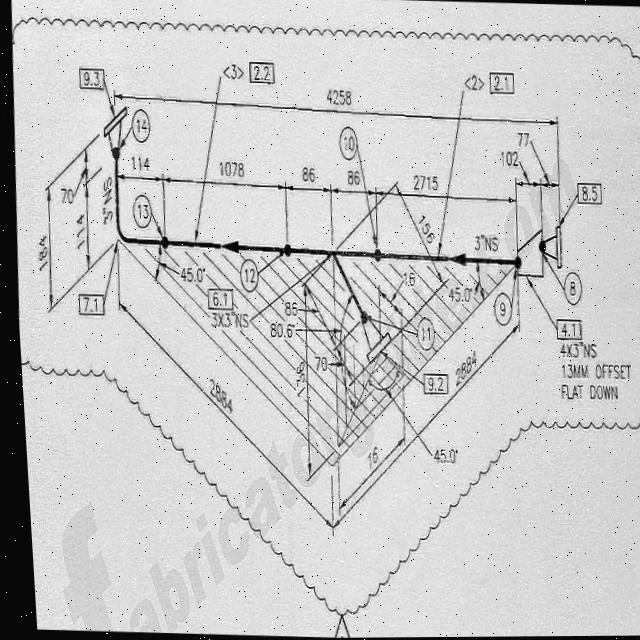Item number: (245, 58, 275, 87), (72, 290, 102, 319), (486, 70, 516, 97), (76, 65, 105, 91), (549, 316, 578, 342), (574, 179, 600, 207), (202, 286, 230, 312), (416, 370, 444, 394)
Measrement: (118, 307, 324, 531), (327, 318, 515, 540), (108, 85, 559, 131), (327, 423, 402, 539), (387, 170, 513, 210), (157, 156, 284, 195), (384, 177, 439, 253), (289, 284, 309, 486), (276, 162, 370, 200), (377, 384, 417, 453), (32, 179, 52, 316), (514, 128, 556, 191), (148, 246, 204, 293), (69, 171, 89, 278), (304, 265, 345, 313), (114, 152, 162, 186), (61, 143, 88, 202), (388, 261, 420, 300), (96, 172, 112, 238), (440, 280, 482, 305), (425, 441, 457, 473), (469, 230, 498, 256), (263, 319, 292, 339), (309, 353, 326, 381), (279, 298, 297, 319)
Pipeline: (109, 163, 508, 315)
Symbol: (354, 303, 387, 369), (97, 103, 128, 163), (534, 225, 560, 274), (215, 229, 238, 267), (445, 245, 467, 278)
Weld number: (487, 291, 512, 332), (334, 122, 357, 164), (411, 316, 434, 356), (128, 190, 150, 230), (234, 254, 256, 293), (129, 105, 150, 145), (559, 268, 579, 309)
other: (551, 339, 624, 409)
